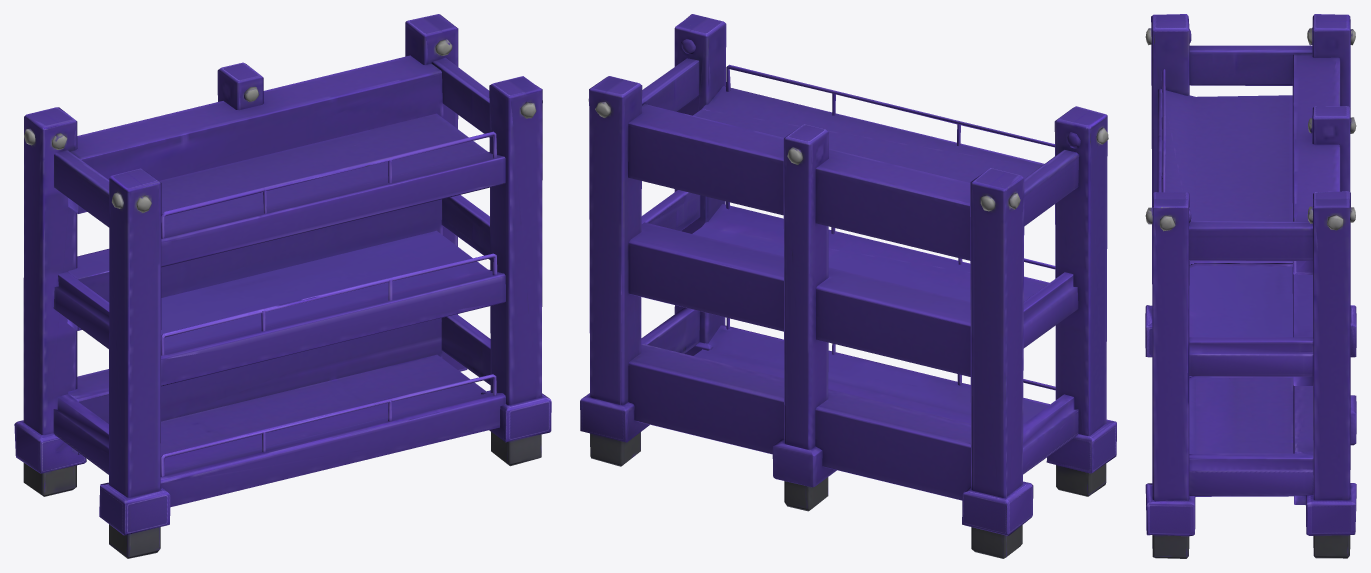
File: Purple_Utility_Shelf_0913012600.fbx
3 views of the same model, side by side, from view 1: azimuth 30°, elevation 25°; view 2: azimuth 150°, elevation 25°; view 3: azimuth 270°, elevation 25° (orthographic). The views are drawn at different scales.
Visible parts, largest first — view 1: Mesh_0; view 2: Mesh_0; view 3: Mesh_0.
Boxes of the visible parts, <box> form: Mesh_0: <box>14,14,551,558</box>; Mesh_0: <box>580,14,1116,558</box>; Mesh_0: <box>1145,14,1356,558</box>.
Bounding box in the file's own units: 100 × 83.2 × 45.12.
Materials: 1 (1 with a texture image).
